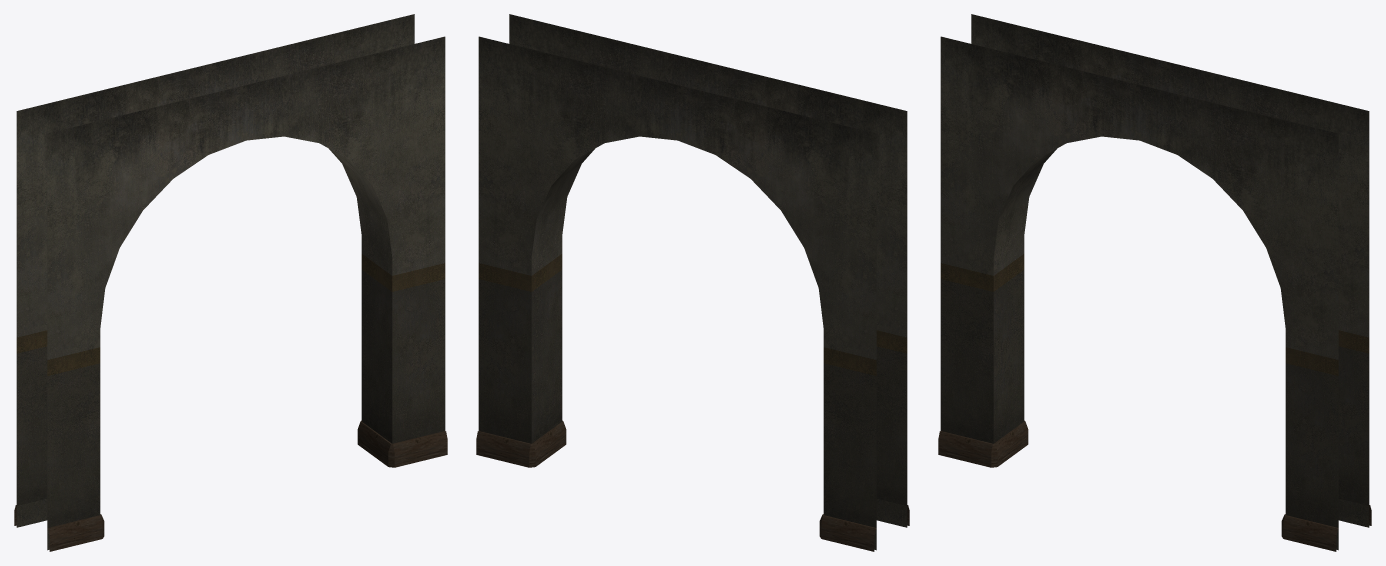
The model's file is arc_2_wall_1.obj.
The picture shows the model from 3 angles, left to right: view 1: azimuth 30°, elevation 25°; view 2: azimuth 150°, elevation 25°; view 3: azimuth 330°, elevation 25°; orthographic projection.
Parts seen in each view (by area): view 1: arc_2_wall_1; view 2: arc_2_wall_1; view 3: arc_2_wall_1.
Part boxes in pixels (left/top/right/bottom): arc_2_wall_1: left=14, top=14, right=447, bottom=551; arc_2_wall_1: left=476, top=14, right=909, bottom=551; arc_2_wall_1: left=938, top=14, right=1371, bottom=551.
Bounding box in the file's own units: 3 × 3 × 0.46.
